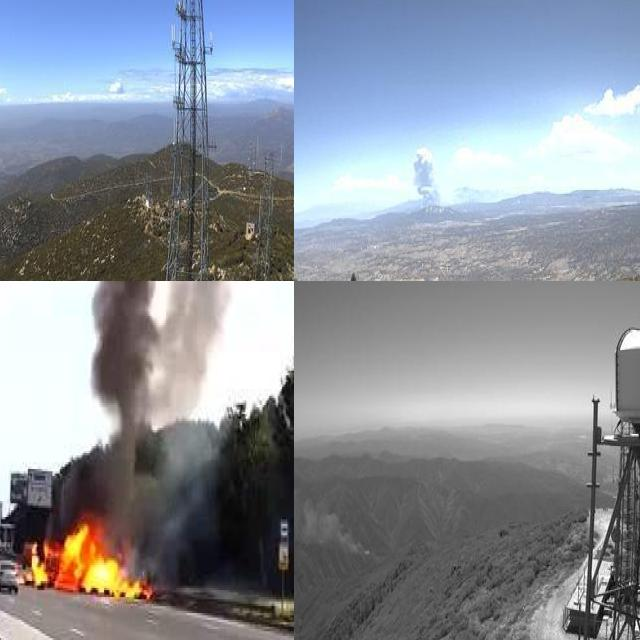fire: (25, 519, 153, 604)
smoke: (88, 281, 294, 537), (294, 480, 371, 562), (409, 146, 441, 218)
